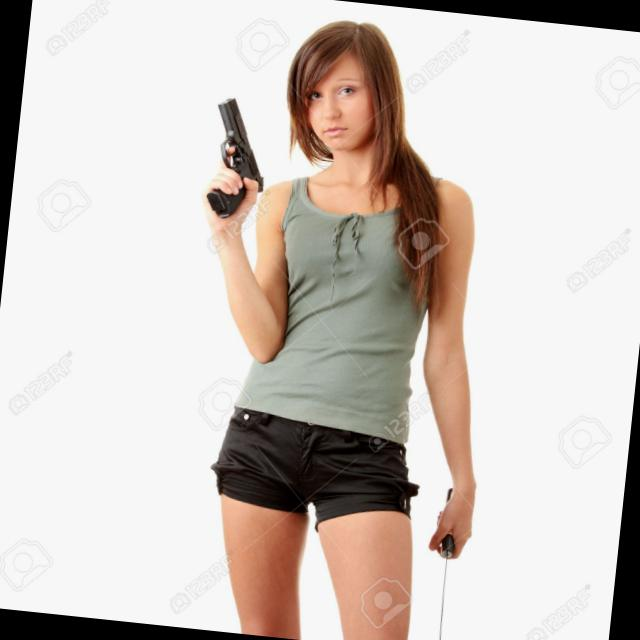handgun: (191, 90, 277, 218)
